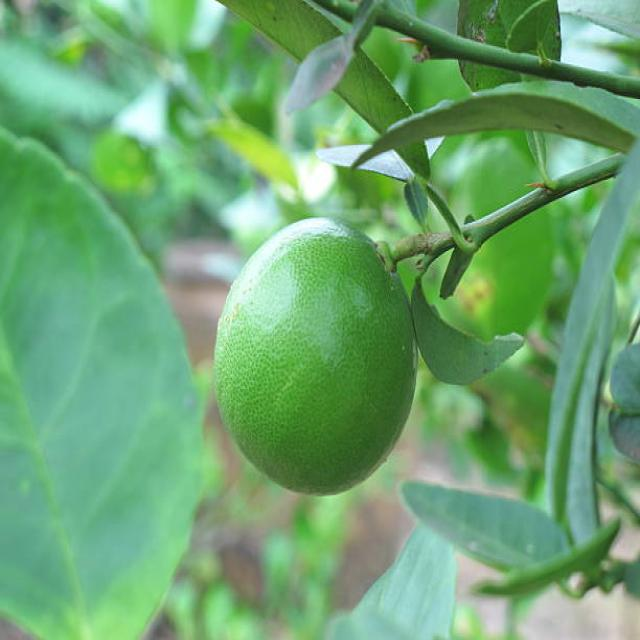Unripe: (215, 216, 418, 495)
